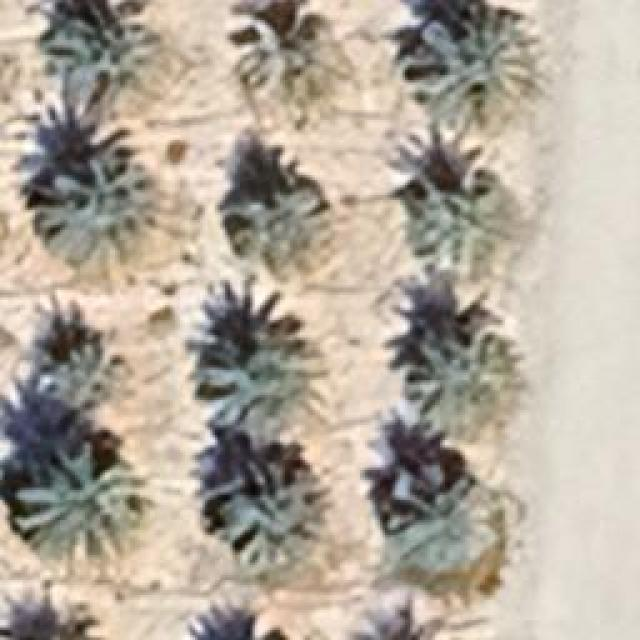PalmTree: (52, 47, 289, 616), (12, 440, 146, 572), (402, 12, 538, 130), (197, 342, 335, 448), (32, 132, 150, 245), (402, 330, 516, 442), (405, 160, 515, 275), (236, 151, 332, 269), (18, 320, 128, 418), (230, 480, 335, 565), (388, 462, 472, 550), (47, 17, 165, 75), (338, 610, 455, 640), (182, 613, 300, 640)
